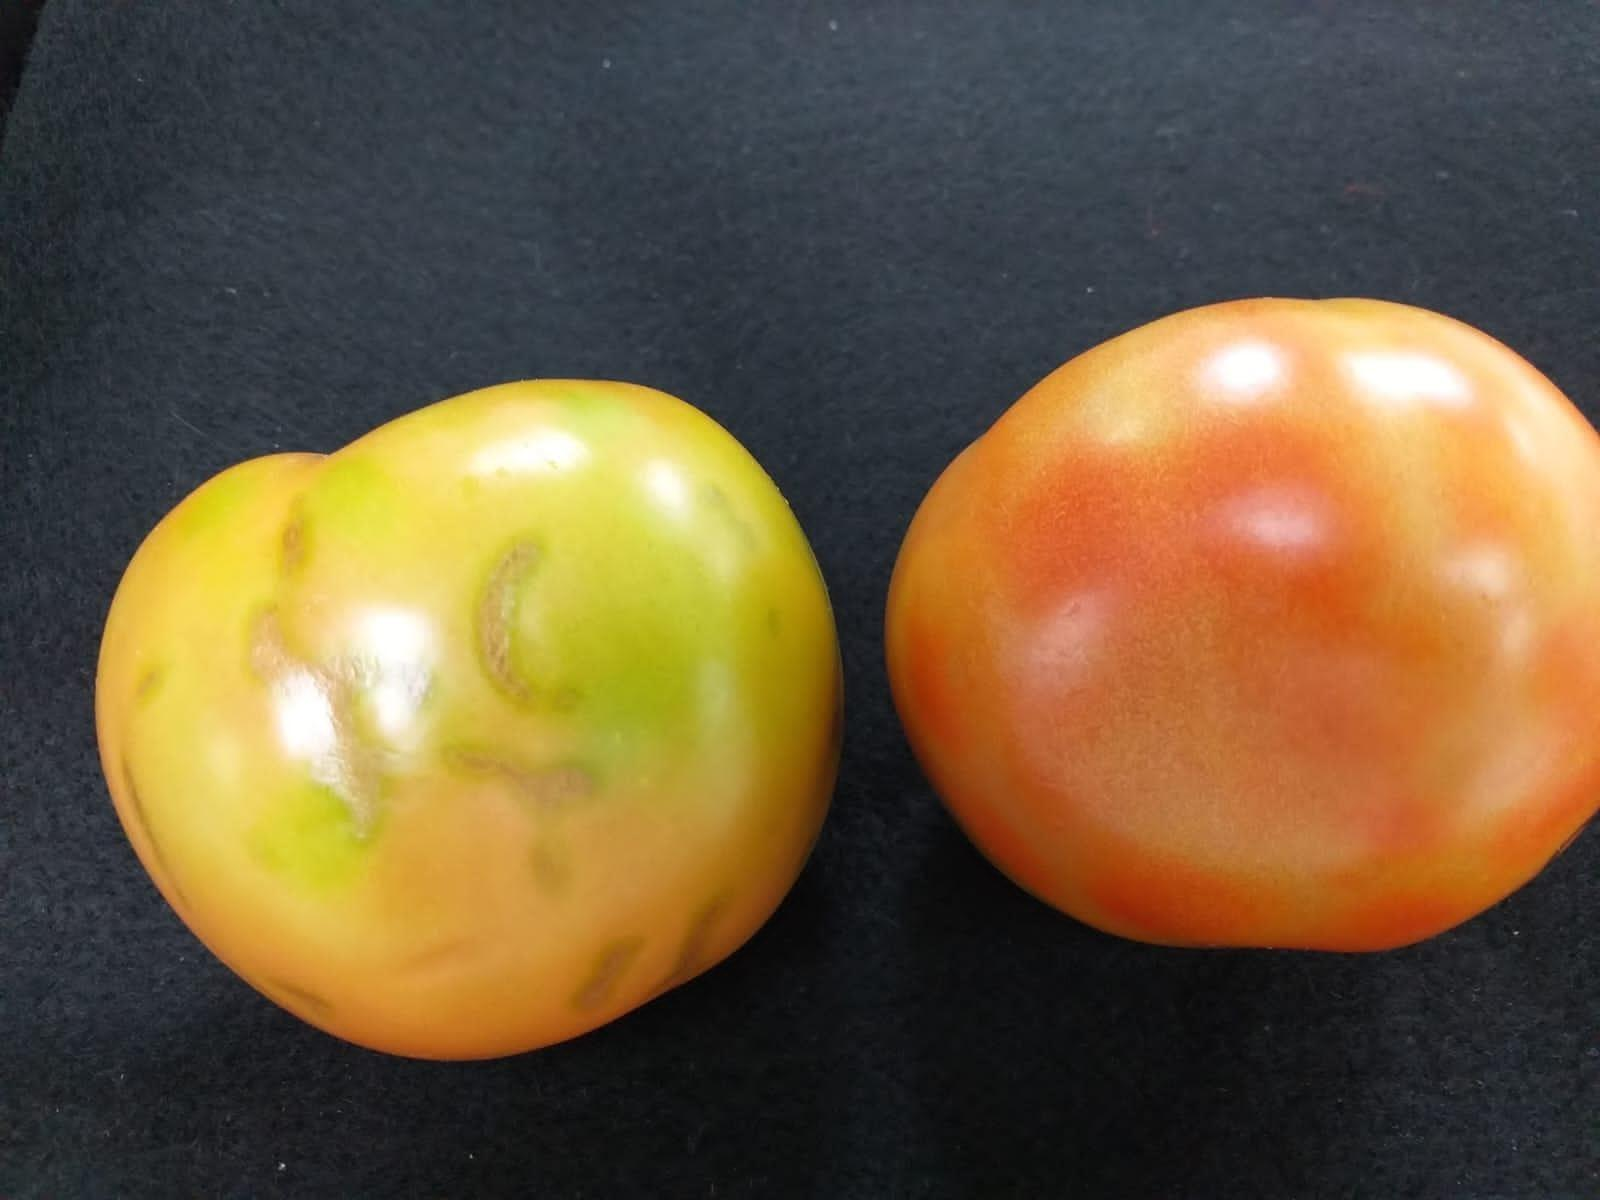Tomate: (886, 296, 1599, 950)
Tomate Rugoso: (93, 378, 839, 1059)
